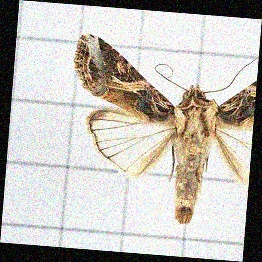Spodoptera litura: (67, 38, 253, 222)
